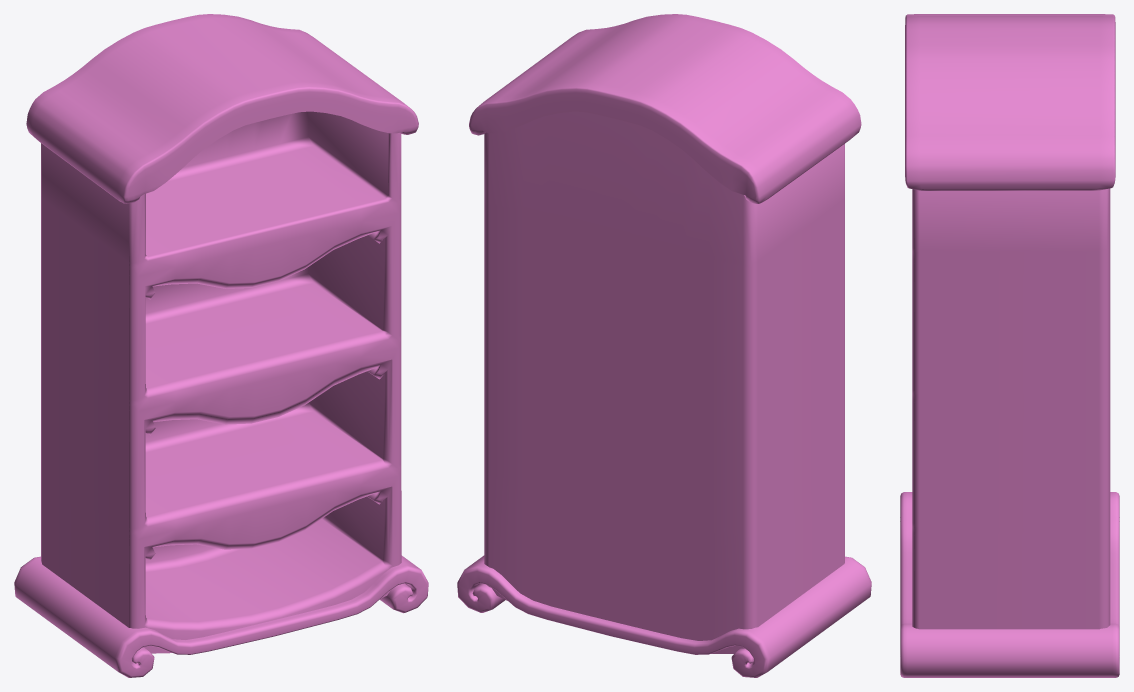
File: ENV_HAU_SHELF_MODEL.fbx
3 views of the same model, side by side, from view 1: azimuth 30°, elevation 25°; view 2: azimuth 150°, elevation 25°; view 3: azimuth 270°, elevation 25° (orthographic). The views are drawn at different scales.
Visible parts, largest first — view 1: ENV_HAU_SHELF_MODEL; view 2: ENV_HAU_SHELF_MODEL; view 3: ENV_HAU_SHELF_MODEL.
Boxes of the visible parts, x1,y1,x2,y2 form: ENV_HAU_SHELF_MODEL: (14,14,428,677); ENV_HAU_SHELF_MODEL: (457,14,871,677); ENV_HAU_SHELF_MODEL: (900,14,1119,677).
Size of the model in its own units: 96.23 by 162 by 56.71.
